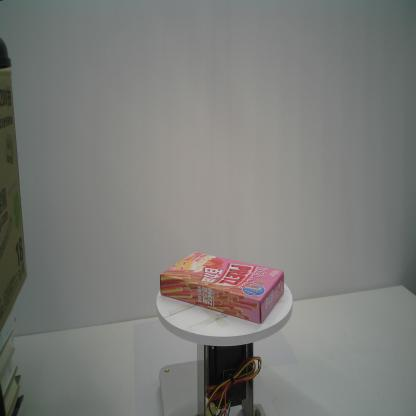Dessert: (159, 251, 285, 324)
